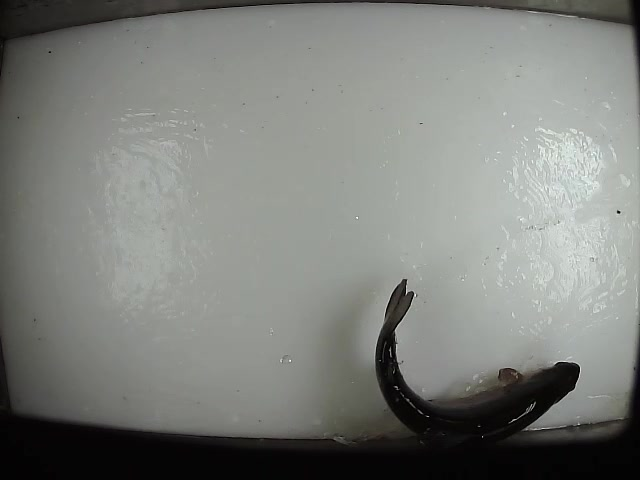fish: (374, 275, 582, 455)
